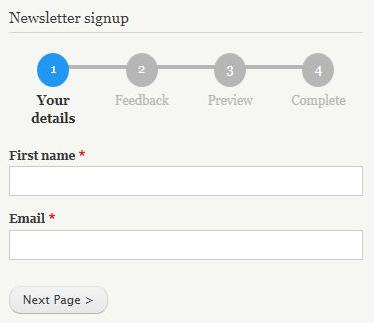button: (7, 284, 106, 314)
field: (7, 165, 364, 198), (8, 230, 364, 262)
field_with_label: (6, 212, 365, 263), (5, 149, 366, 199)
